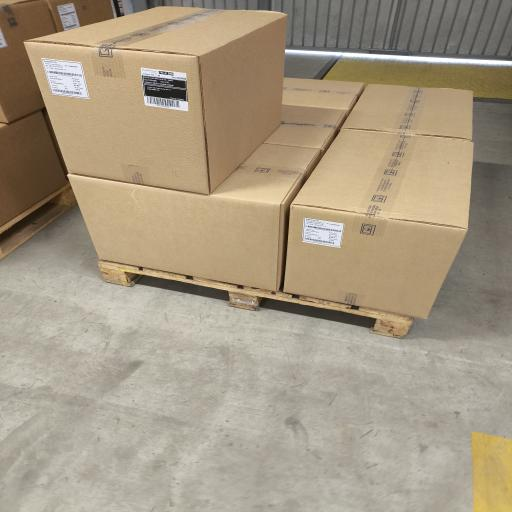pallet: (99, 261, 413, 338), (0, 184, 76, 259)
